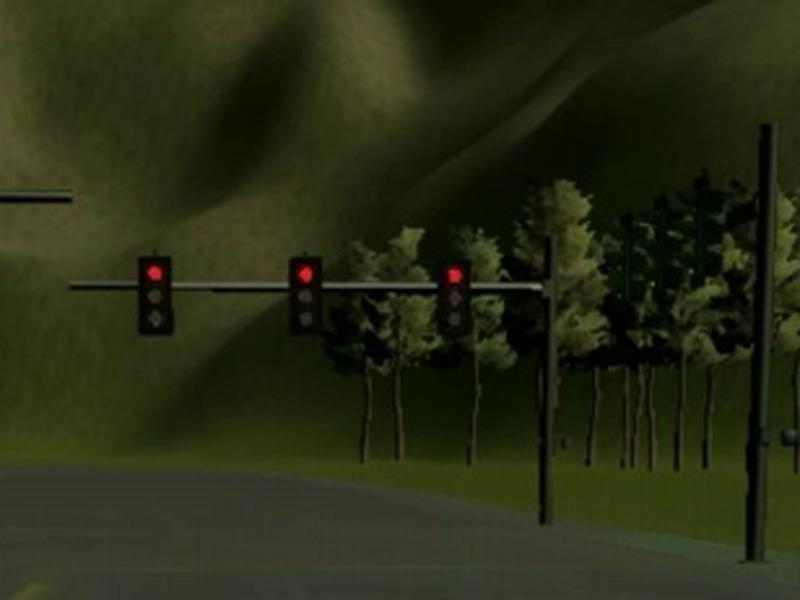Red: (137, 256, 173, 334), (436, 259, 471, 334), (289, 260, 322, 333)
